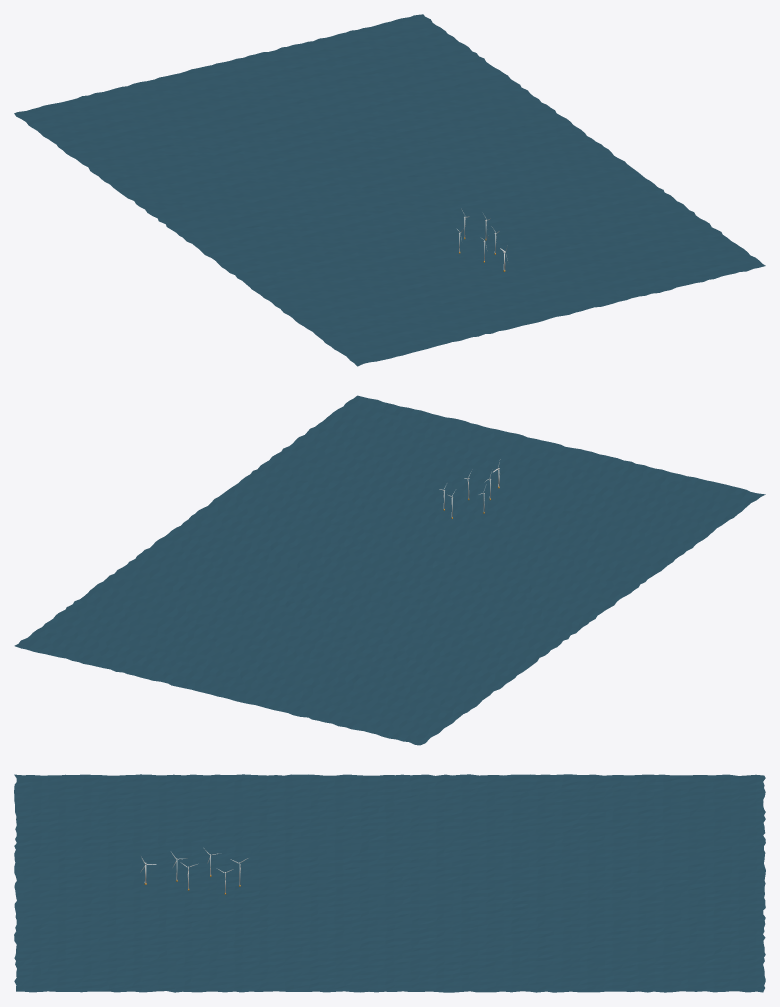
The model's file is ShoreBot_RH_BladeA_v02.fbx.
3 views of the same model, one above another, from view 1: azimuth 30°, elevation 25°; view 2: azimuth 150°, elevation 25°; view 3: azimuth 270°, elevation 25° (orthographic). The views are drawn at different scales.
Visible parts, largest first — view 1: ENV_ReferenceOcean; view 2: ENV_ReferenceOcean; view 3: ENV_ReferenceOcean.
Part boxes in pixels (x1,y1,x2,y2): ENV_ReferenceOcean: (14, 14, 765, 366); ENV_ReferenceOcean: (14, 395, 765, 745); ENV_ReferenceOcean: (14, 774, 765, 992).
Size of what is drawn, in the model's own units: 1288 by 88.22 by 1876.
Materials: 8 (2 with a texture image).
